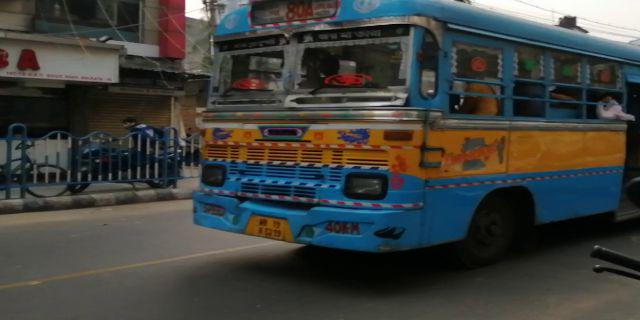Bus: (197, 11, 620, 259)
